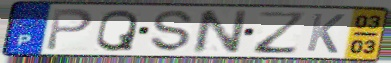K: (304, 11, 348, 55)
N: (191, 9, 251, 55)
P: (44, 7, 96, 53)
Q: (93, 8, 140, 53)
S: (149, 9, 195, 54)
Z: (252, 10, 309, 56)
